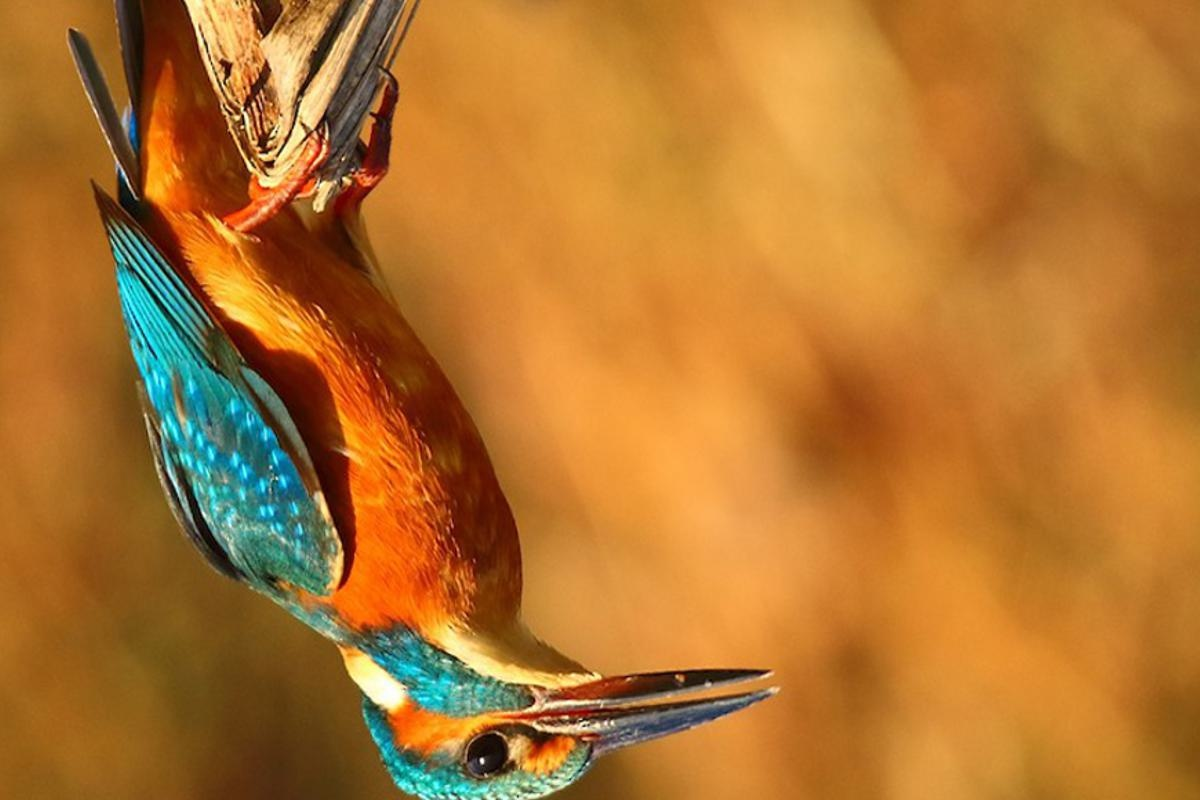kingfisher: (26, 1, 787, 795)
